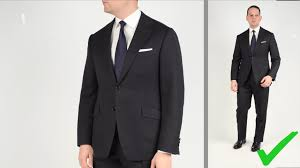F_M_suit jacket: (75, 10, 190, 164), (230, 26, 286, 87)
F_dress pants: (231, 75, 269, 146)
F_tie: (111, 19, 136, 83)
